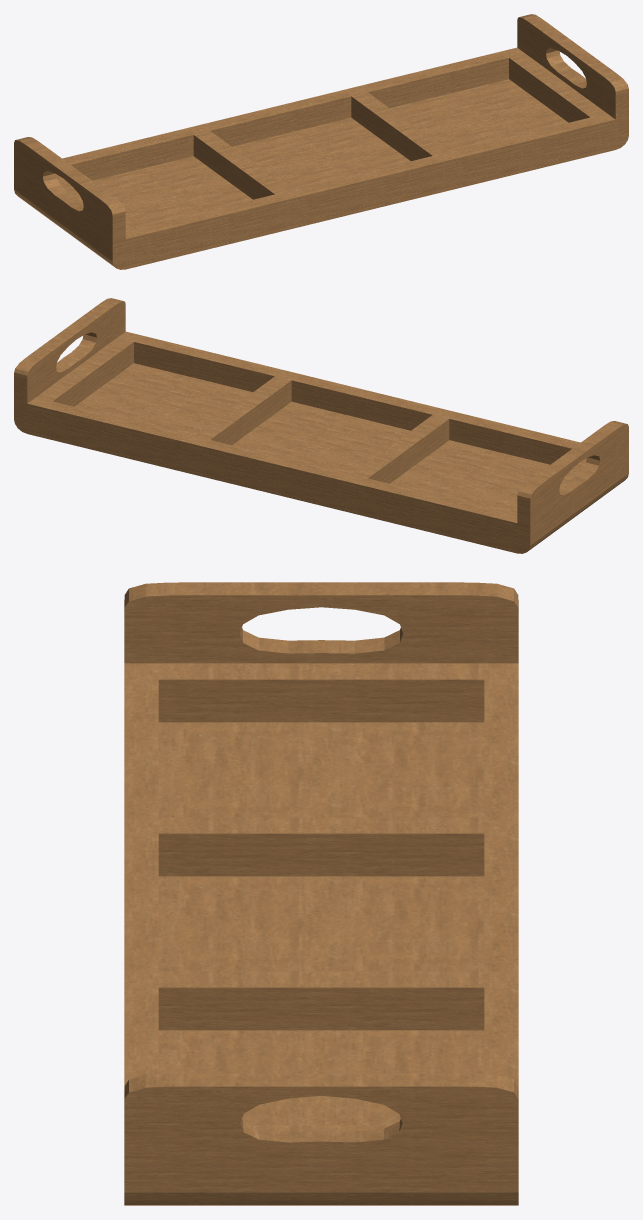
The model's file is Tray_Cats.glb.
3 renders of one model, top to bottom at view 1: azimuth 30°, elevation 25°; view 2: azimuth 150°, elevation 25°; view 3: azimuth 270°, elevation 25°, orthographic. The views are drawn at different scales.
Visible parts, largest first — view 1: Tray_Cats; view 2: Tray_Cats; view 3: Tray_Cats.
Boxes of the visible parts, left/top/right/bottom form: Tray_Cats: left=14, top=14, right=628, bottom=269; Tray_Cats: left=14, top=298, right=628, bottom=553; Tray_Cats: left=124, top=582, right=518, bottom=1205.
Bounding box in the file's own units: 8.64 × 1.03 × 2.86.
1 material, 1 textured.
